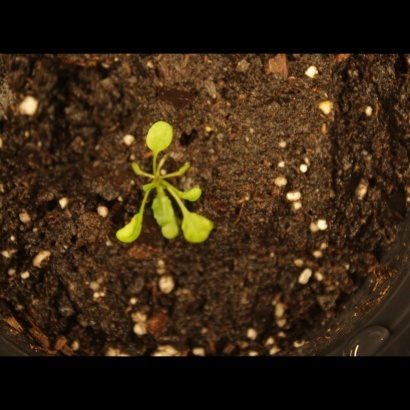leaf: (148, 184, 180, 244), (180, 204, 216, 248), (115, 202, 146, 251), (141, 113, 176, 156), (173, 181, 205, 204), (170, 160, 197, 183), (127, 159, 150, 182)
